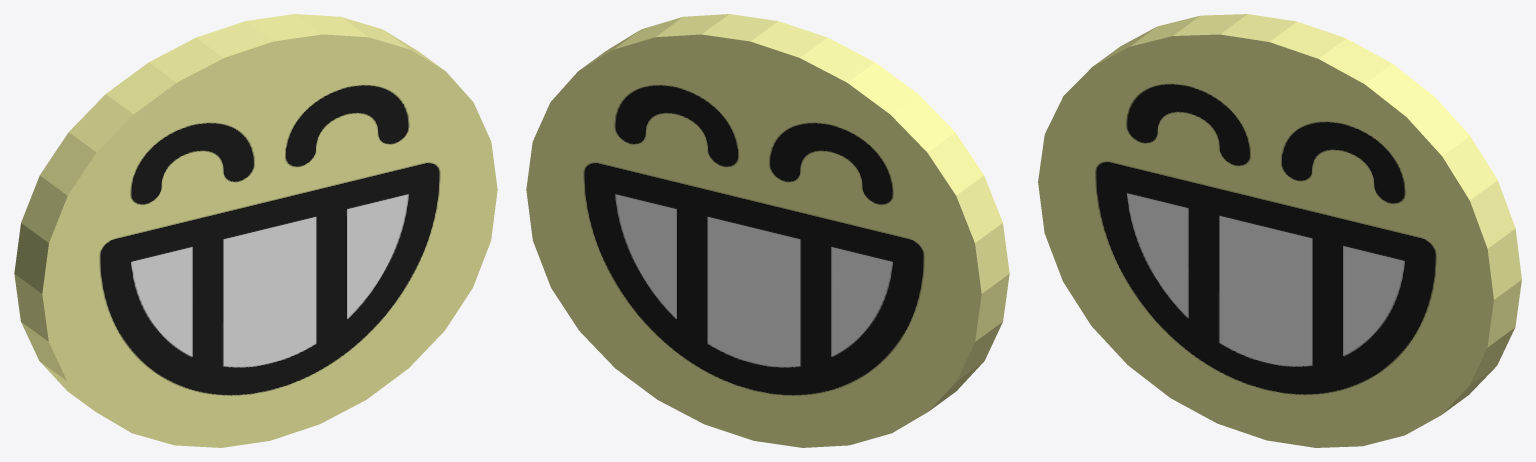
File: smile.FBX
The picture shows the model from 3 angles, left to right: view 1: azimuth 30°, elevation 25°; view 2: azimuth 150°, elevation 25°; view 3: azimuth 330°, elevation 25°; orthographic projection.
Visible parts, largest first — view 1: smile; view 2: smile; view 3: smile.
Boxes of the visible parts, bbox=[...] form: smile: bbox=[14, 14, 497, 447]; smile: bbox=[526, 14, 1009, 447]; smile: bbox=[1038, 14, 1521, 447].
Size of the model in its own units: 36.38 by 30.43 by 3.87.
Materials: 1 (1 with a texture image).
